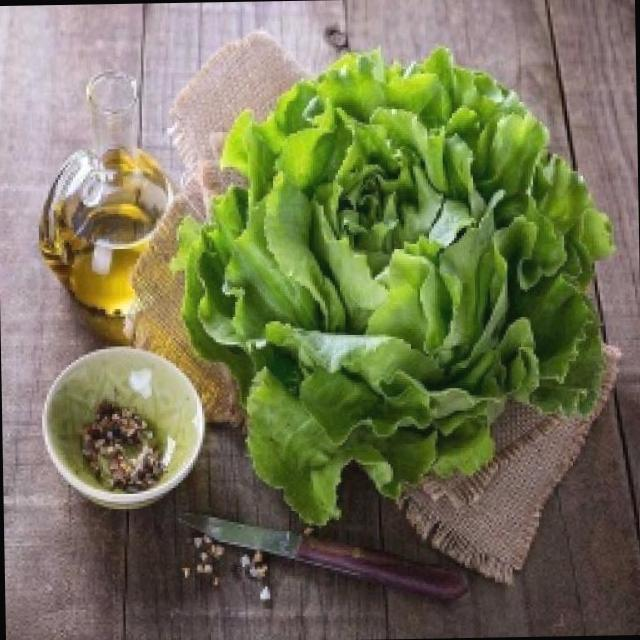Lettuce-Ready-to-Harvest: (175, 48, 611, 523)
